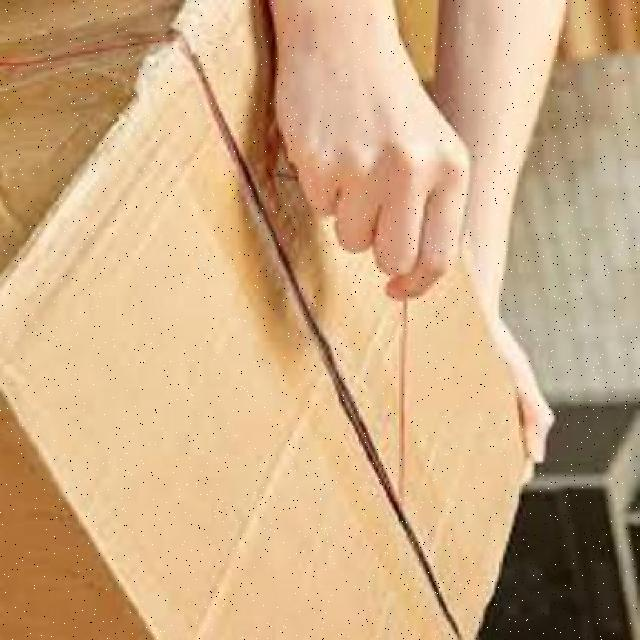normal: (11, 3, 560, 639)
